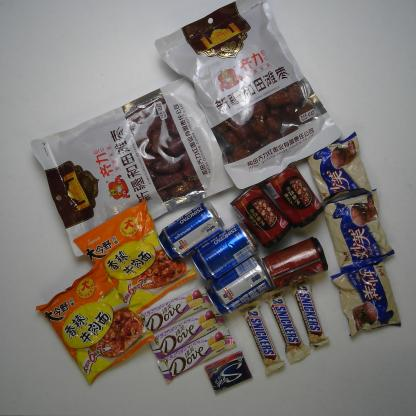Alcohol: (204, 253, 277, 316), (156, 202, 228, 263), (190, 221, 261, 281)
Canned Food: (228, 181, 296, 250), (263, 159, 326, 231), (260, 233, 331, 294)
Chocolate: (143, 302, 229, 363), (156, 324, 238, 384), (134, 282, 216, 342), (260, 287, 312, 365), (238, 299, 288, 378), (288, 278, 332, 352)
Dessert: (328, 256, 406, 340), (322, 188, 397, 274), (304, 128, 374, 206)
Dried Food: (29, 68, 245, 259), (155, 0, 342, 196)
Gum: (203, 350, 254, 397)
Instant Noodles: (35, 260, 158, 389), (71, 199, 199, 319)
